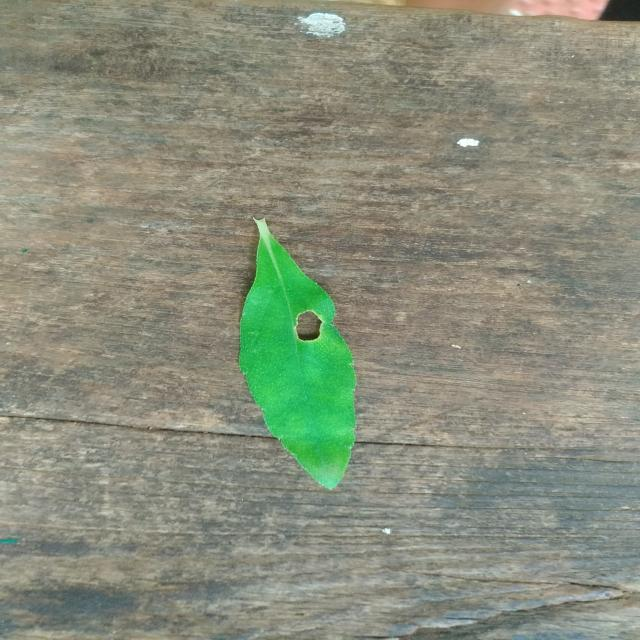defectedbringaraja: (240, 220, 356, 489)
